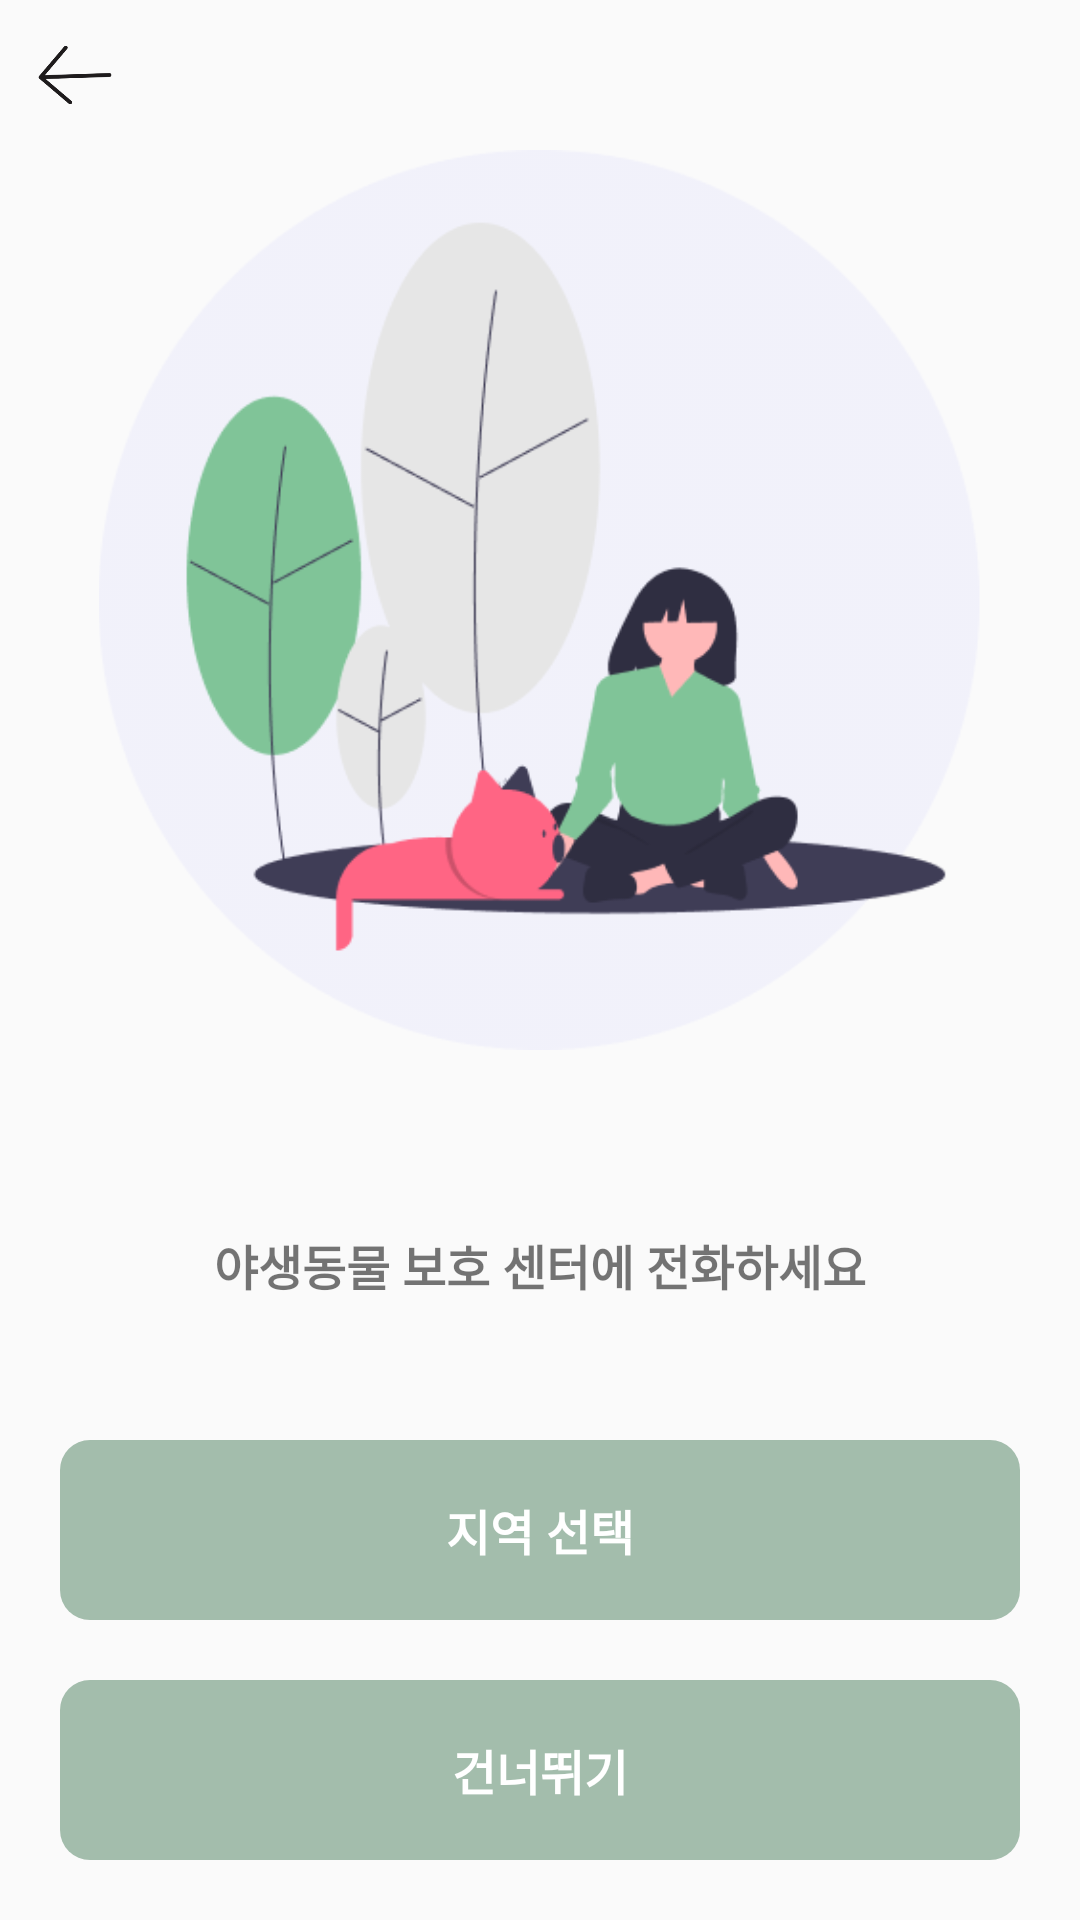

Icons on this 1080 x 1920 Android screen, each with its box as (x1, y1, x2, y2):
back arrow: (38, 46, 112, 104)
